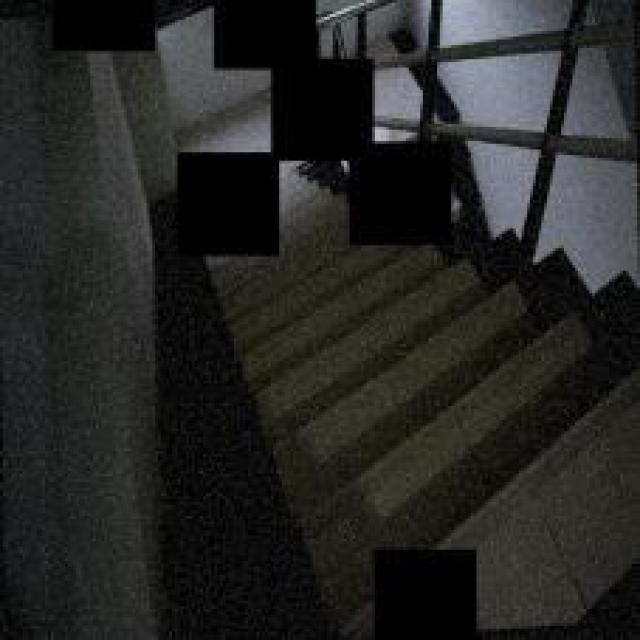downstair: (308, 241, 638, 540)
